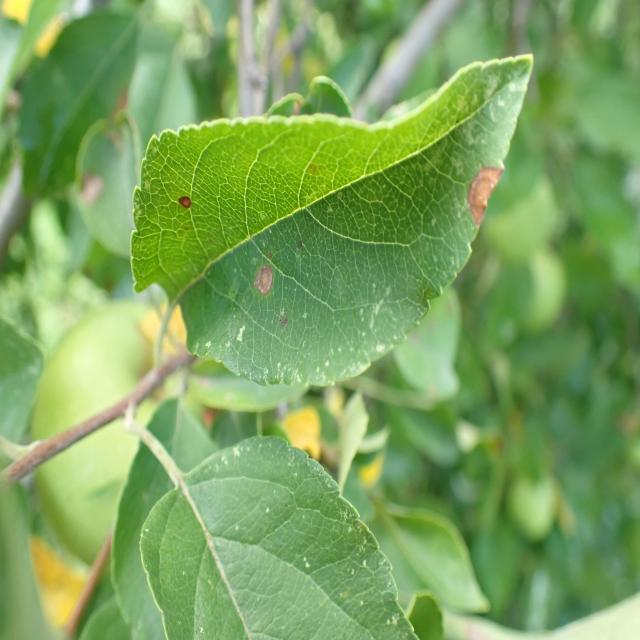Black Rot: (458, 161, 512, 254), (243, 241, 278, 333), (158, 168, 196, 230)
